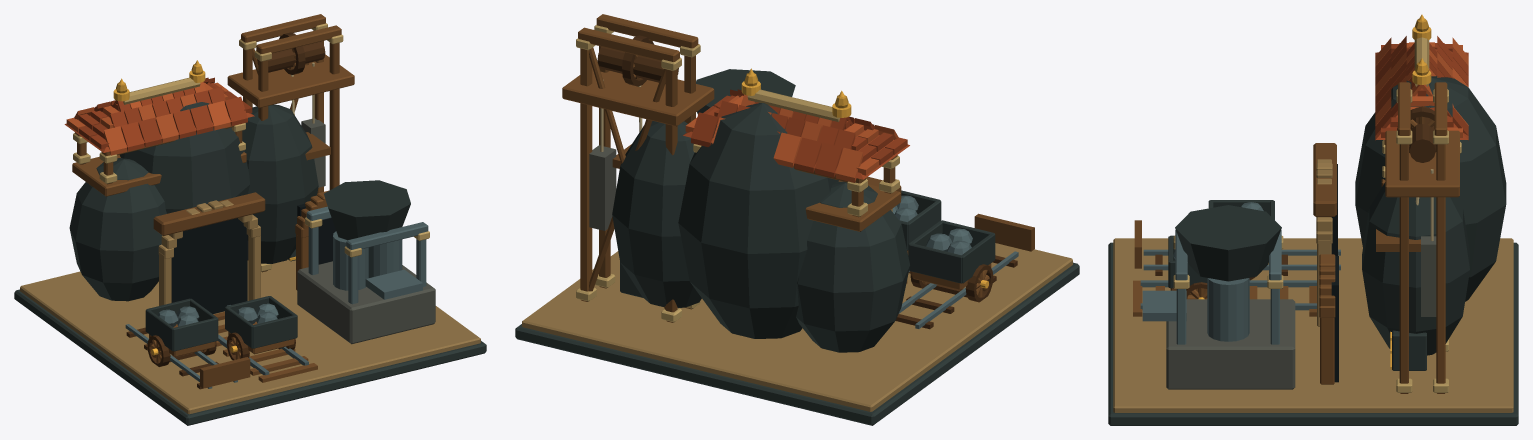
The picture shows the model from 3 angles, left to right: view 1: azimuth 30°, elevation 25°; view 2: azimuth 150°, elevation 25°; view 3: azimuth 270°, elevation 25°; orthographic projection. The views are drawn at different scales.
Parts seen in each view (by area): view 1: mine_11_structure, mine_11_metal; view 2: mine_11_structure, mine_11_metal; view 3: mine_11_structure, mine_11_metal.
Boxes of the visible parts, left/top/right/bottom form: mine_11_structure: left=14, top=14, right=486, bottom=425; mine_11_metal: left=113, top=60, right=295, bottom=355; mine_11_structure: left=515, top=14, right=1079, bottom=425; mine_11_metal: left=741, top=68, right=988, bottom=288; mine_11_structure: left=1108, top=19, right=1518, bottom=425; mine_11_metal: left=1198, top=14, right=1431, bottom=369.
Bounding box in the file's own units: 5.6 × 4.3 × 5.6.
